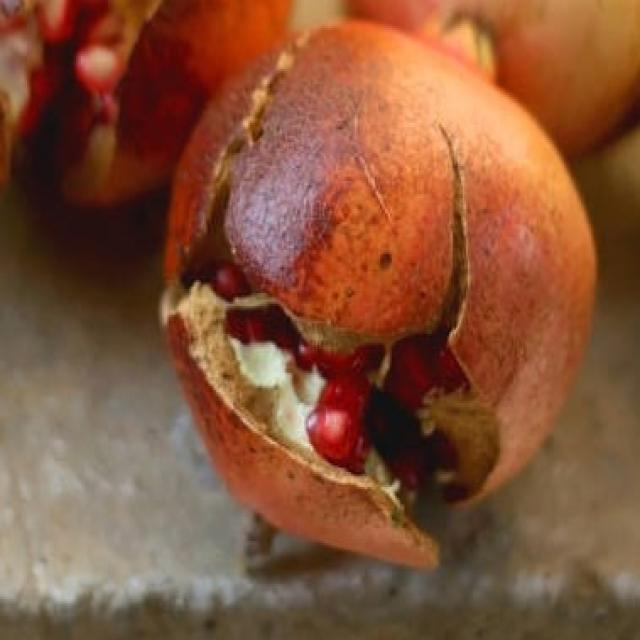overripe: (156, 20, 604, 573)
